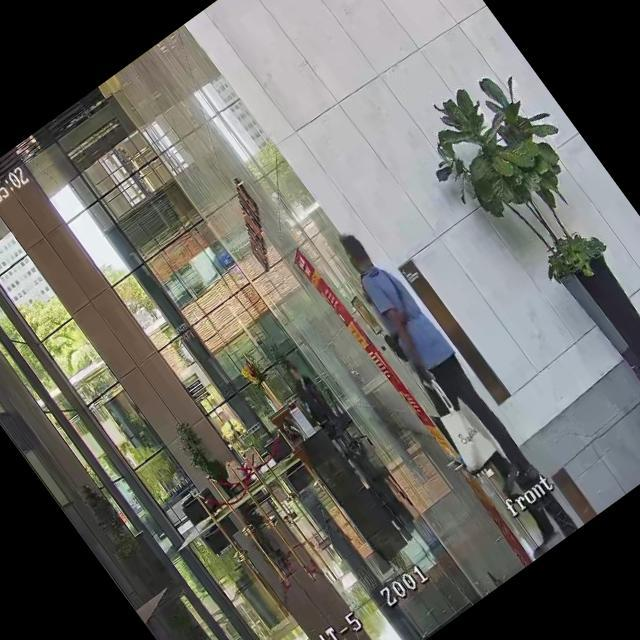person: (324, 221, 546, 501), (277, 355, 339, 429)
